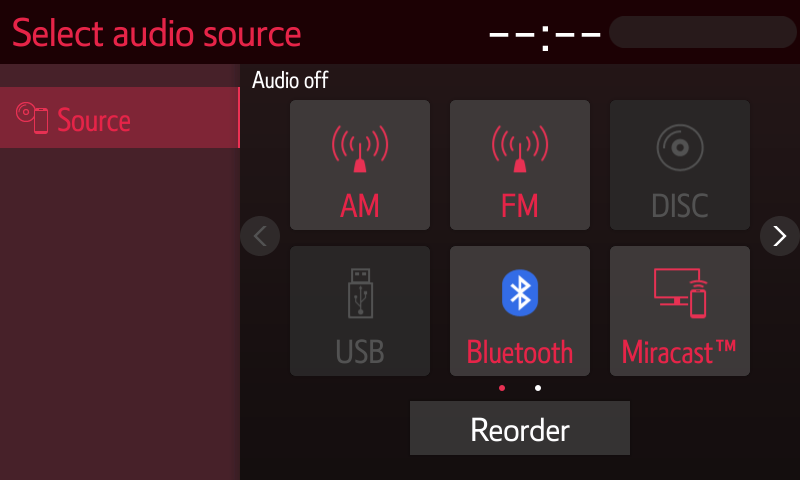touchPart: (281, 94, 437, 231), (444, 239, 594, 381), (608, 239, 754, 380), (450, 94, 593, 233), (400, 398, 641, 461), (759, 212, 796, 259)
untouchPart: (289, 246, 435, 383), (606, 95, 754, 230), (2, 82, 242, 152), (478, 13, 795, 56), (7, 12, 310, 54), (242, 212, 283, 262)
